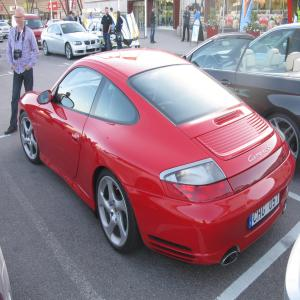Vehicle-registration-plate: (249, 195, 281, 232), (87, 46, 97, 51)
